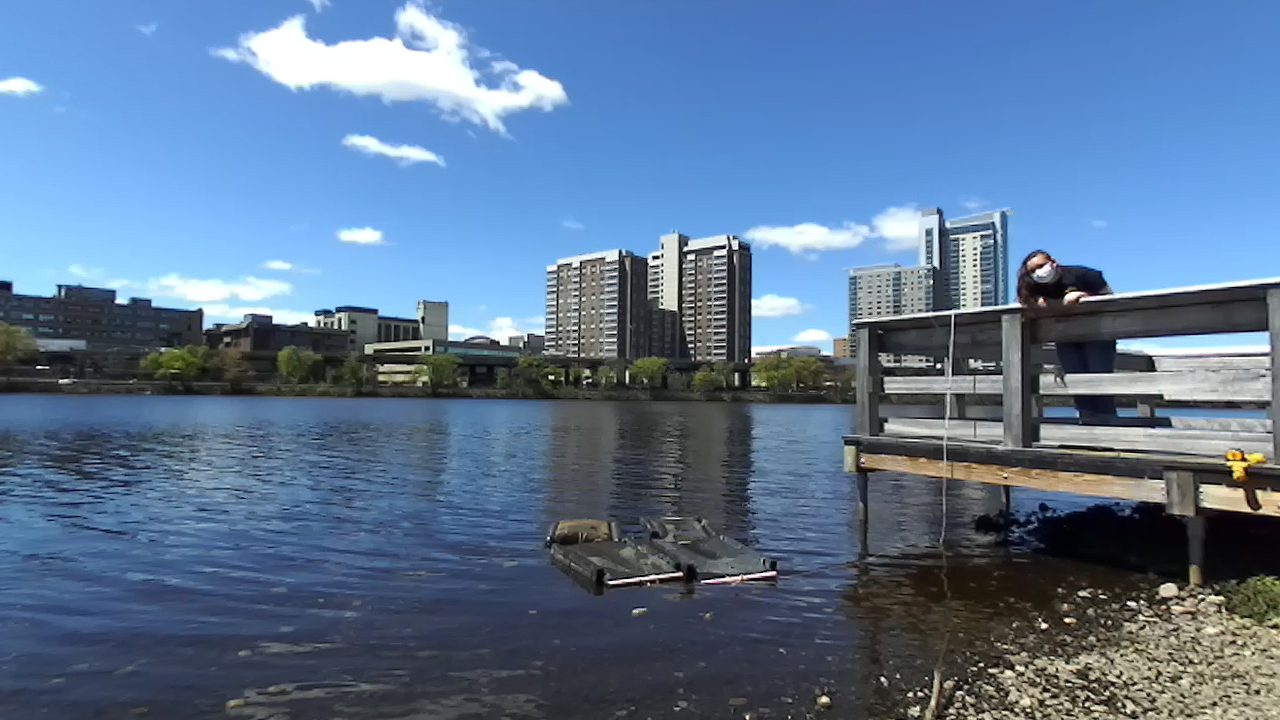bag: (551, 545, 680, 597), (654, 540, 779, 582), (544, 517, 620, 545), (638, 516, 711, 538)
